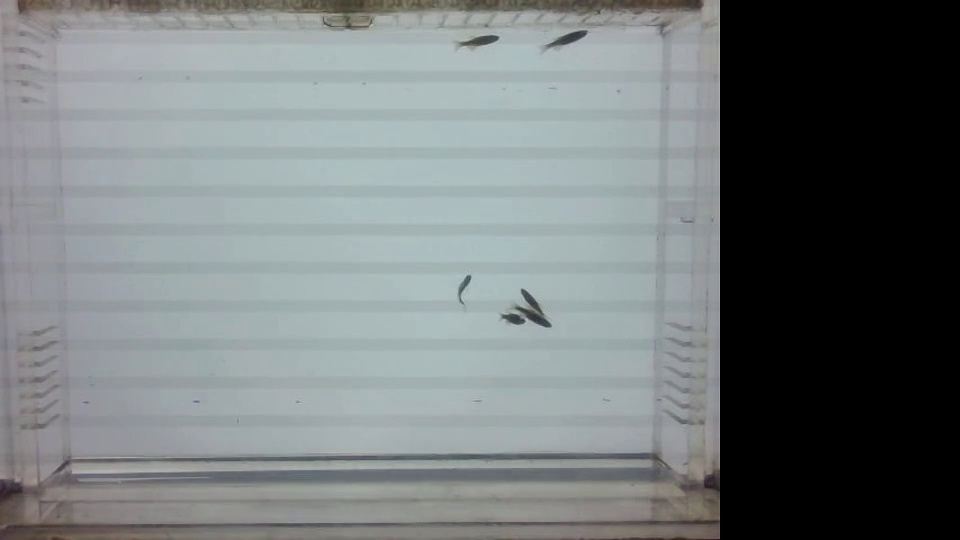fish: (532, 29, 592, 56), (448, 260, 474, 316), (444, 30, 502, 53), (512, 300, 552, 332), (516, 282, 545, 320), (491, 306, 523, 334)
